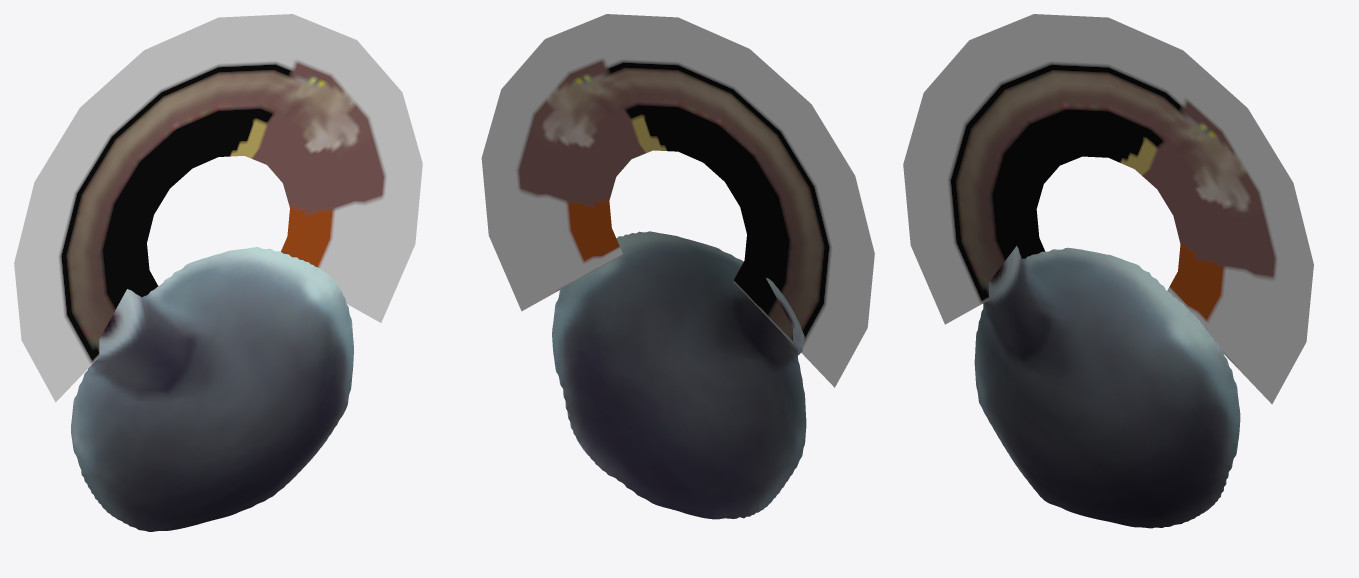
Rendered from Bomb.FBX.
3 renders of one model, left to right at view 1: azimuth 30°, elevation 25°; view 2: azimuth 150°, elevation 25°; view 3: azimuth 330°, elevation 25°, orthographic. The views are drawn at different scales.
Parts seen in each view (by area): view 1: Fuse, Bomb; view 2: Fuse, Bomb; view 3: Fuse, Bomb.
Boxes of the visible parts, x1,y1,x2,y2 form: Fuse: [14, 14, 422, 402]; Bomb: [71, 247, 353, 531]; Fuse: [481, 14, 874, 387]; Bomb: [552, 231, 806, 519]; Fuse: [903, 14, 1313, 404]; Bomb: [974, 246, 1240, 528].
Bounding box in the file's own units: 50.2 × 6.59 × 61.08.
